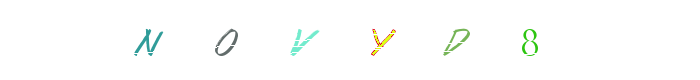8: (453, 0, 533, 80)
D: (342, 0, 422, 80)
N: (143, 0, 223, 80)
O: (274, 0, 354, 80)
V: (310, 0, 390, 80)
Y: (340, 0, 420, 80)
